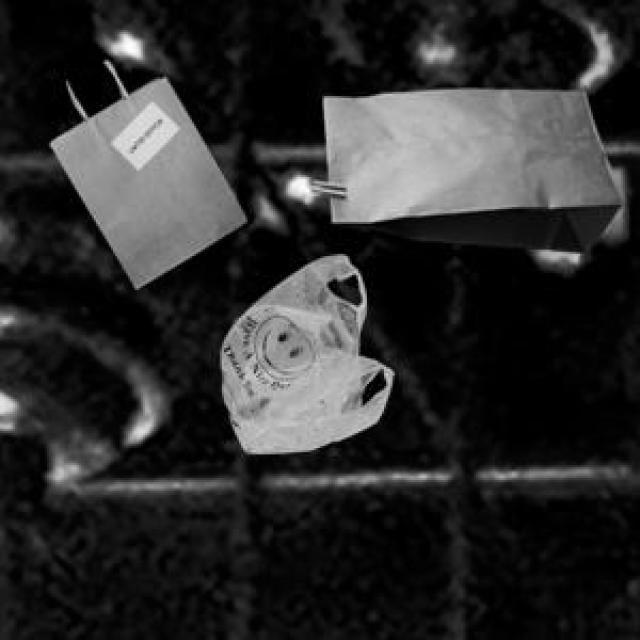paper: (307, 85, 619, 250), (47, 56, 243, 284)
